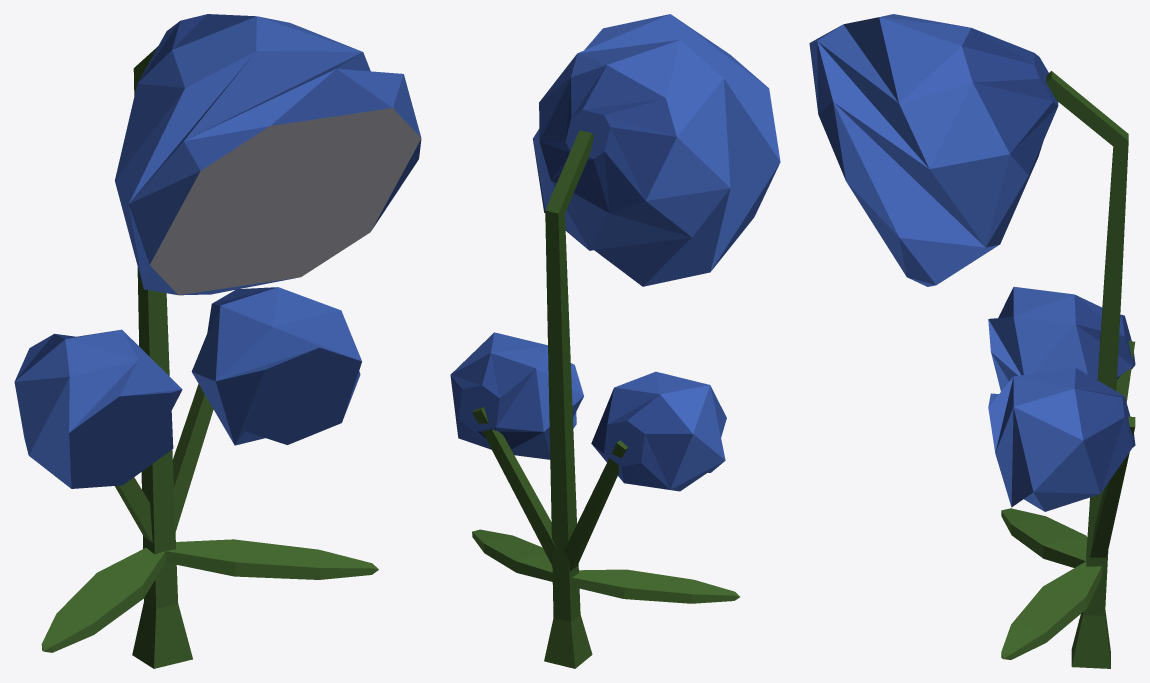
The model's file is flower_blue.gltf.
3 renders of one model, left to right at view 1: azimuth 30°, elevation 25°; view 2: azimuth 150°, elevation 25°; view 3: azimuth 270°, elevation 25°, orthographic. The views are drawn at different scales.
Parts seen in each view (by area): view 1: flower_blue; view 2: flower_blue; view 3: flower_blue.
Boxes of the visible parts, left/top/right/bottom form: flower_blue: left=14, top=14, right=421, bottom=668; flower_blue: left=450, top=14, right=780, bottom=668; flower_blue: left=809, top=14, right=1135, bottom=668.
Size of the model in its own units: 0.1814 by 0.3604 by 0.1684.
